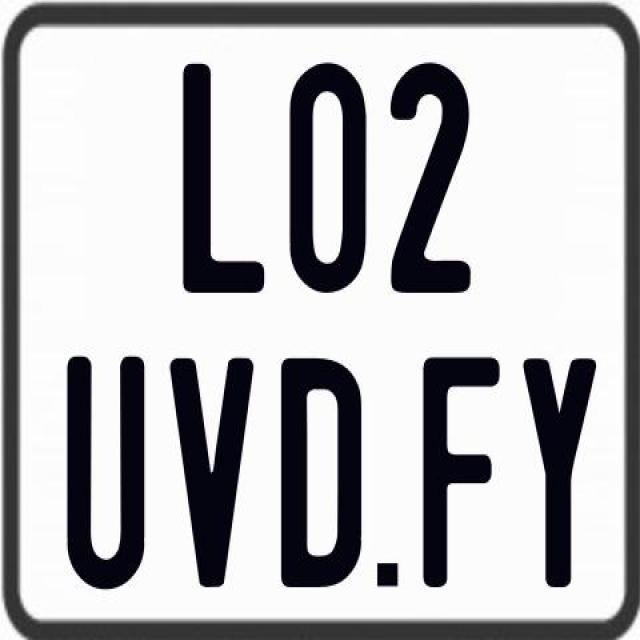0: (290, 61, 370, 294)
2: (386, 61, 466, 294)
D: (278, 354, 362, 590)
F: (423, 356, 501, 594)
L: (178, 59, 262, 293)
U: (64, 352, 150, 594)
V: (166, 358, 254, 590)
Y: (522, 358, 600, 597)
